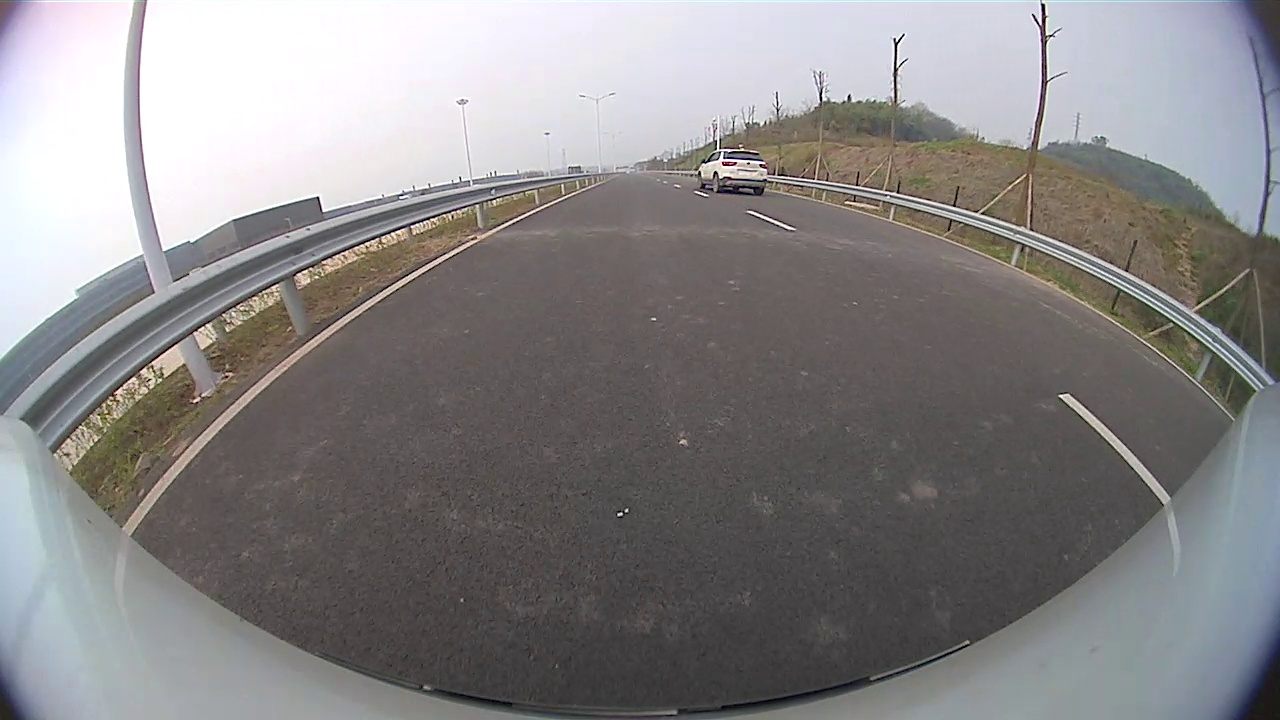car: (695, 148, 769, 197)
front: (696, 174, 705, 191)
rear: (712, 175, 722, 194)
